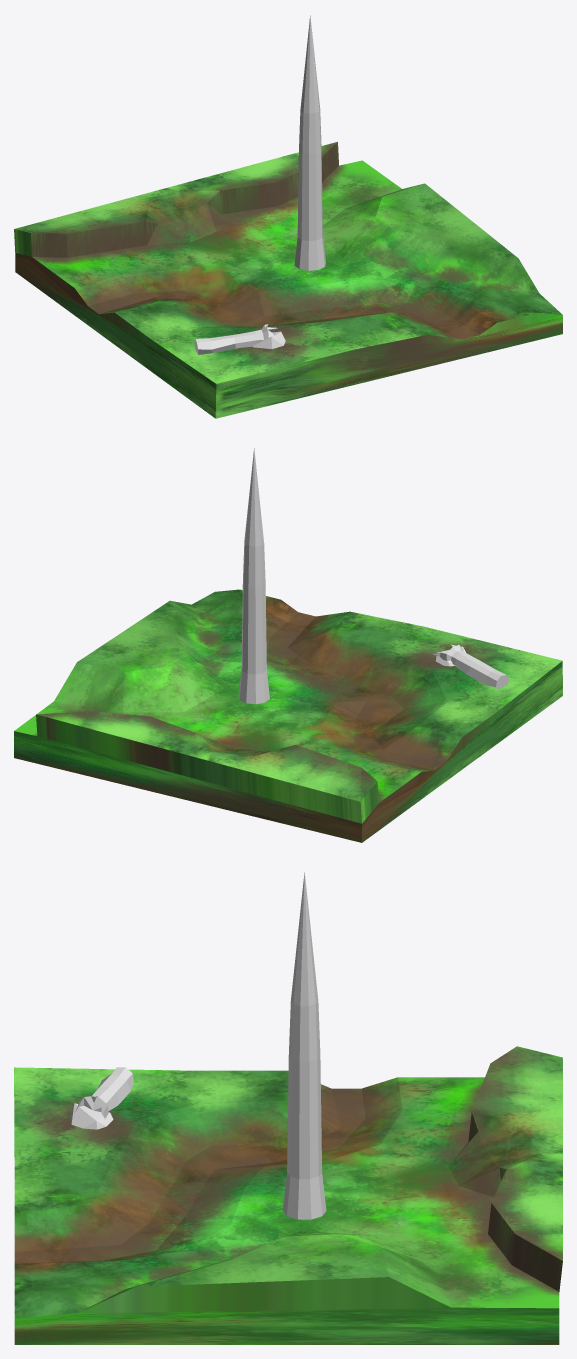
File: stage_1.glb
3 renders of one model, top to bottom at view 1: azimuth 30°, elevation 25°; view 2: azimuth 150°, elevation 25°; view 3: azimuth 270°, elevation 25°, orthographic. The views are drawn at different scales.
Parts seen in each view (by area): view 1: base_terrain, tall_tree_1, fallen_tree_1; view 2: base_terrain, tall_tree_1, fallen_tree_1; view 3: base_terrain, tall_tree_1, fallen_tree_1, dirt_pile_1.
Boxes of the visible parts, left/top/right/bottom form: base_terrain: left=14, top=142, right=562, bottom=418; tall_tree_1: left=294, top=15, right=325, bottom=270; fallen_tree_1: left=194, top=324, right=279, bottom=354; base_terrain: left=14, top=589, right=562, bottom=842; tall_tree_1: left=238, top=448, right=269, bottom=704; fallen_tree_1: left=432, top=644, right=508, bottom=689; base_terrain: left=14, top=1046, right=562, bottom=1344; tall_tree_1: left=282, top=872, right=326, bottom=1219; fallen_tree_1: left=74, top=1067, right=133, bottom=1119; dirt_pile_1: left=69, top=1103, right=113, bottom=1129.
Size of the model in its own units: 160 by 122 by 161.
1 material, 1 textured.
